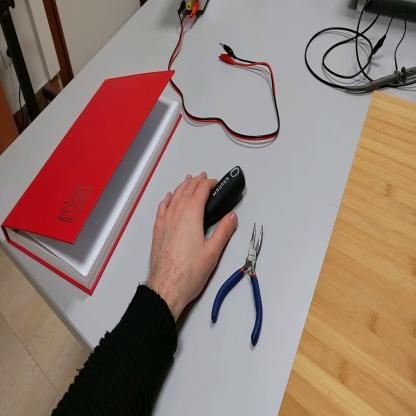hand: (150, 170, 237, 310)
oscilloscope probe tip: (347, 66, 416, 97)
pliers: (212, 222, 269, 344)
power supply: (180, 1, 213, 15)
register: (3, 78, 183, 300)
screwdriver-: (205, 166, 248, 231)
working area: (278, 91, 416, 414)
